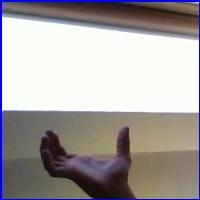space: (32, 120, 147, 197)
